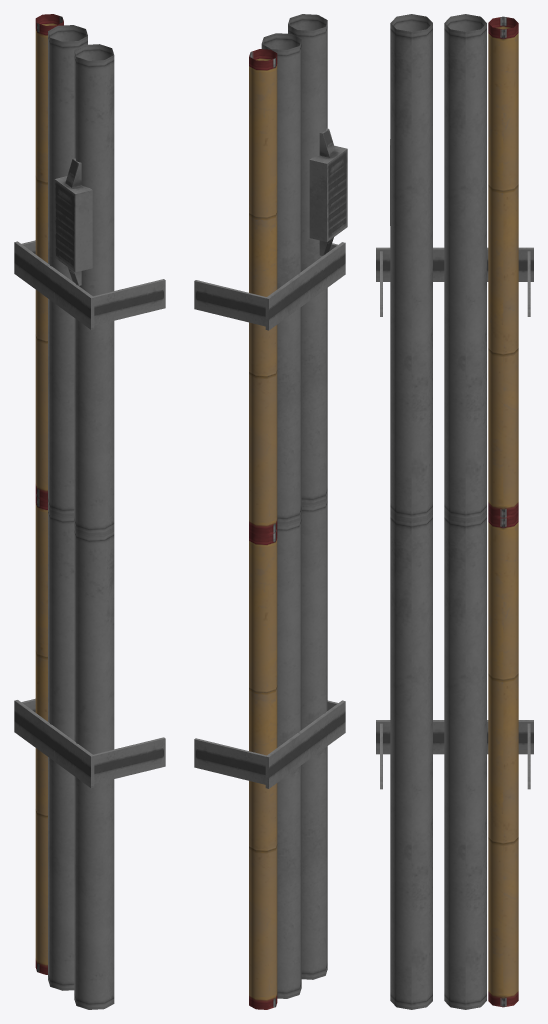
File: CP_Pipe_F_4m_01.fbx
The picture shows the model from 3 angles, left to right: view 1: azimuth 30°, elevation 25°; view 2: azimuth 150°, elevation 25°; view 3: azimuth 270°, elevation 25°; orthographic projection. The views are drawn at different scales.
Visible parts, largest first — view 1: CP_Pipe_F_4m_01; view 2: CP_Pipe_F_4m_01; view 3: CP_Pipe_F_4m_01.
Boxes of the visible parts, x1,y1,x2,y2 form: CP_Pipe_F_4m_01: (14, 14, 165, 1009); CP_Pipe_F_4m_01: (194, 14, 347, 1009); CP_Pipe_F_4m_01: (376, 14, 533, 1009).
Size of the model in its own units: 37.62 by 400 by 58.56.
